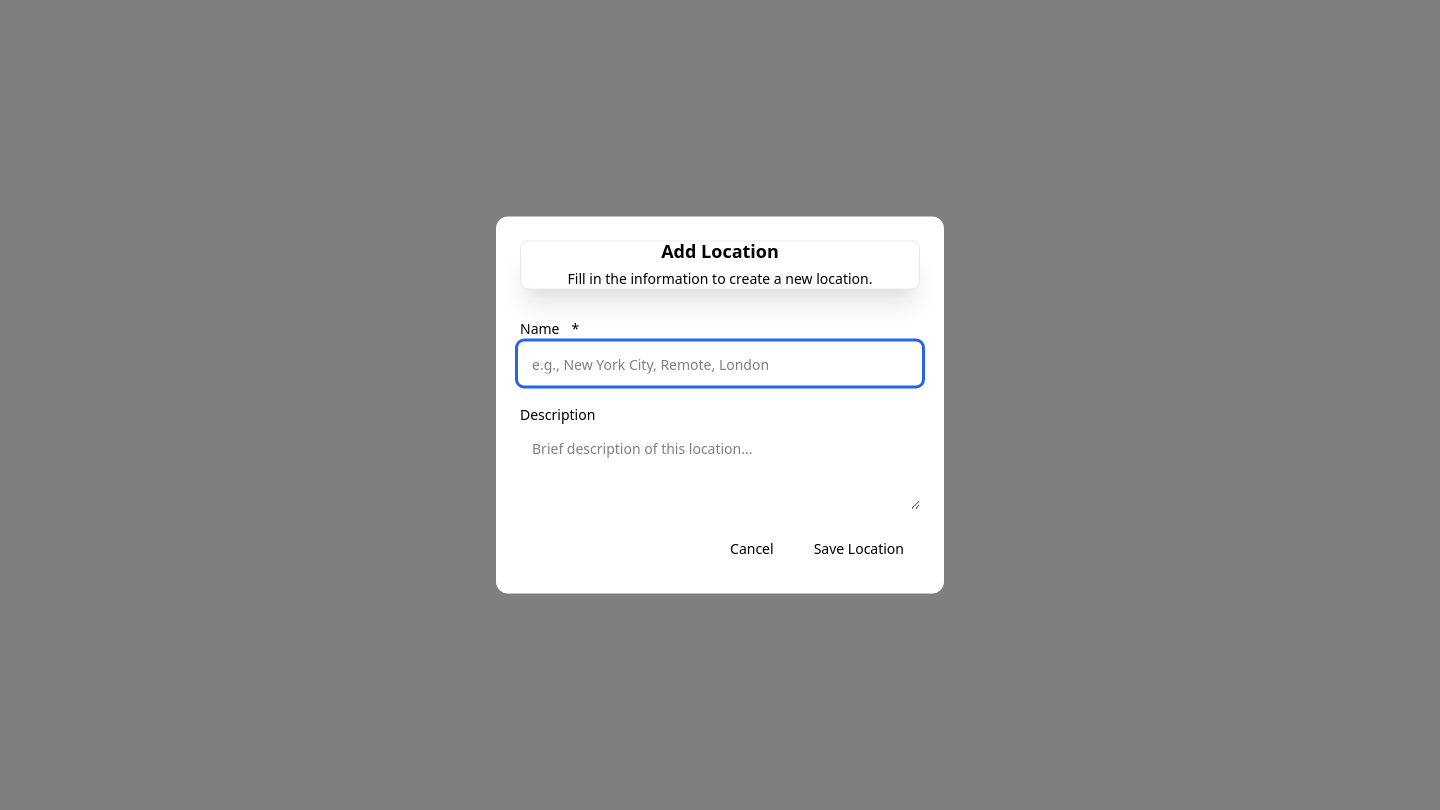
Test: LocationModal › Form Submission - Create Mode › disables submit button during save
Type "Sydney" into the field labelled "Name *".
click(720, 364); type("Sydney")  # box [520,344,920,384]
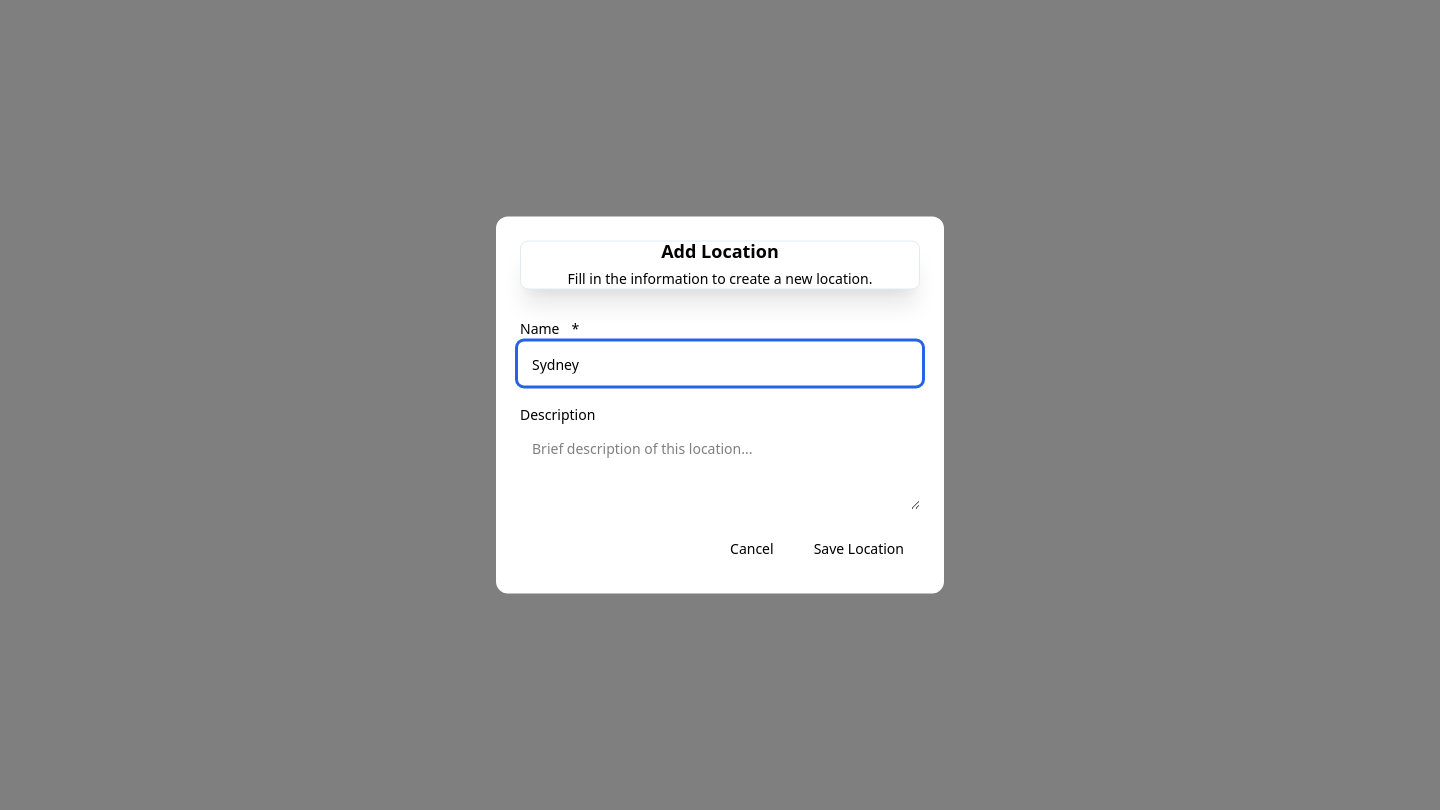
Click the button "Save Location".
click(859, 548)  # box [798,526,920,570]
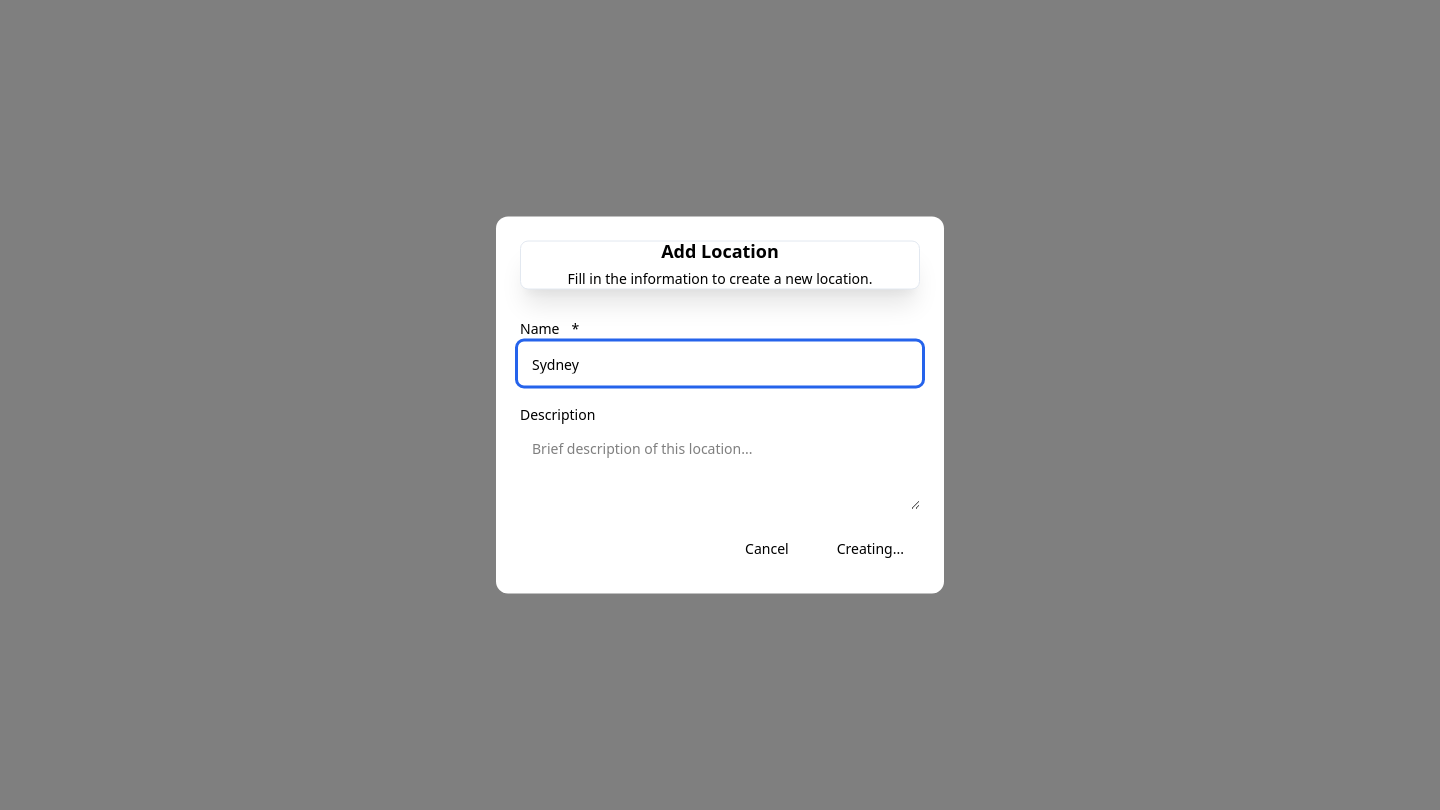
Result: the button named "Save Location" is disabled at [813,526,920,570]
